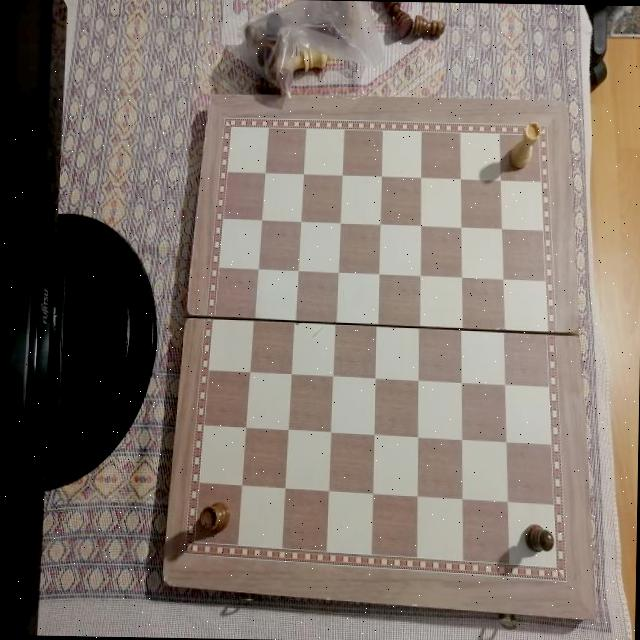corners: (202, 86, 226, 110), (552, 94, 576, 115), (582, 609, 604, 630), (156, 570, 178, 591)
